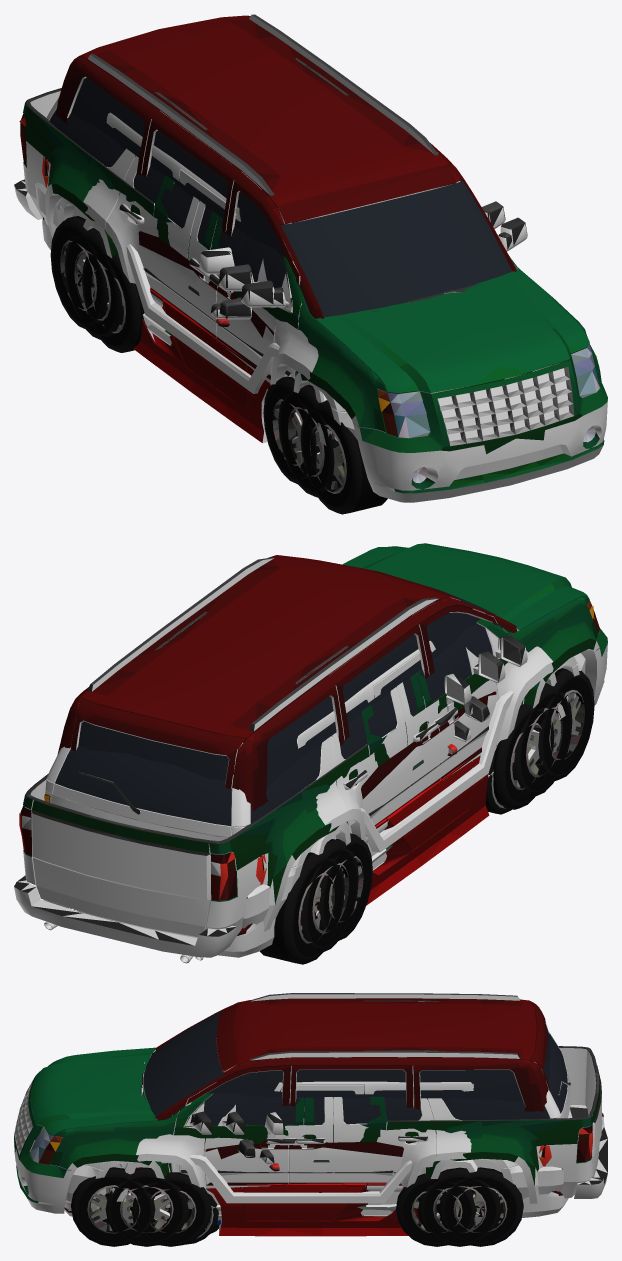
The model's file is traffic-cars.glb.
The picture shows the model from 3 angles, top to bottom: view 1: azimuth 30°, elevation 25°; view 2: azimuth 150°, elevation 25°; view 3: azimuth 270°, elevation 25°; orthographic projection. The views are drawn at different scales.
Parts seen in each view (by area): view 1: van-minivan_detail, van-pickup_detail, van-pickup_paint, car-suv_detail, car-suv_paint, van-minivan_paint, car-sport_detail, car-offroad_paint, car-offroad_detail, van-pickup_lights; view 2: van-minivan_detail, van-pickup_detail, van-pickup_paint, car-suv_detail, car-suv_paint, van-minivan_paint, car-sport_detail, car-offroad_paint, car-offroad_detail, van-pickup_lights; view 3: van-minivan_detail, van-pickup_detail, car-suv_detail, car-suv_paint, van-minivan_paint, van-pickup_paint, car-sport_detail, car-offroad_paint, car-offroad_detail, van-pickup_lights.
Boxes of the visible parts, <box> form: van-minivan_detail: <box>42,14,516,486</box>; van-pickup_detail: <box>14,88,607,514</box>; van-pickup_paint: <box>14,91,607,502</box>; car-suv_detail: <box>49,57,505,497</box>; car-suv_paint: <box>35,65,505,454</box>; van-minivan_paint: <box>42,15,516,385</box>; car-sport_detail: <box>133,288,270,442</box>; car-offroad_paint: <box>68,112,337,445</box>; car-offroad_detail: <box>82,209,330,483</box>; van-pickup_lights: <box>20,114,599,483</box>; van-minivan_detail: <box>57,555,517,960</box>; van-pickup_detail: <box>14,543,607,964</box>; van-pickup_paint: <box>14,622,607,962</box>; car-suv_detail: <box>45,611,572,951</box>; car-suv_paint: <box>45,623,585,928</box>; van-minivan_paint: <box>43,558,561,959</box>; car-sport_detail: <box>366,744,511,905</box>; car-offroad_paint: <box>297,640,568,854</box>; car-offroad_detail: <box>317,673,567,940</box>; van-pickup_lights: <box>20,600,599,900</box>; van-minivan_detail: <box>64,993,562,1224</box>; van-pickup_detail: <box>14,1046,607,1246</box>; car-suv_detail: <box>105,1000,571,1246</box>; car-suv_paint: <box>65,1001,572,1220</box>; van-minivan_paint: <box>64,994,568,1220</box>; van-pickup_paint: <box>14,1048,607,1213</box>; car-sport_detail: <box>154,1163,418,1244</box>; car-offroad_paint: <box>105,1081,497,1203</box>; car-offroad_detail: <box>111,1083,476,1246</box>; van-pickup_lights: <box>30,1124,592,1164</box>.
Size of what is drawn, in the model's own units: 2.07 by 1.76 by 5.18.
